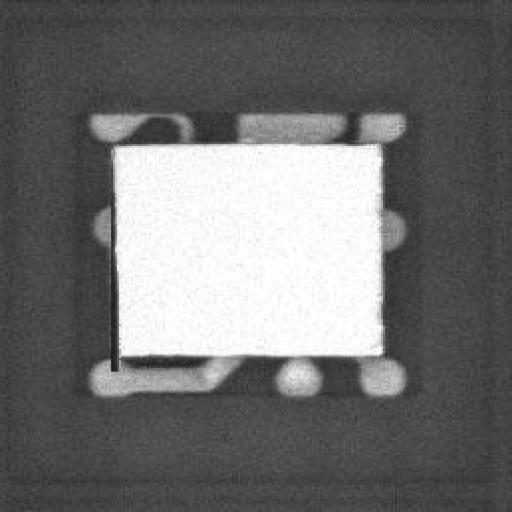DIE_BROKEN: (103, 256, 121, 368)
